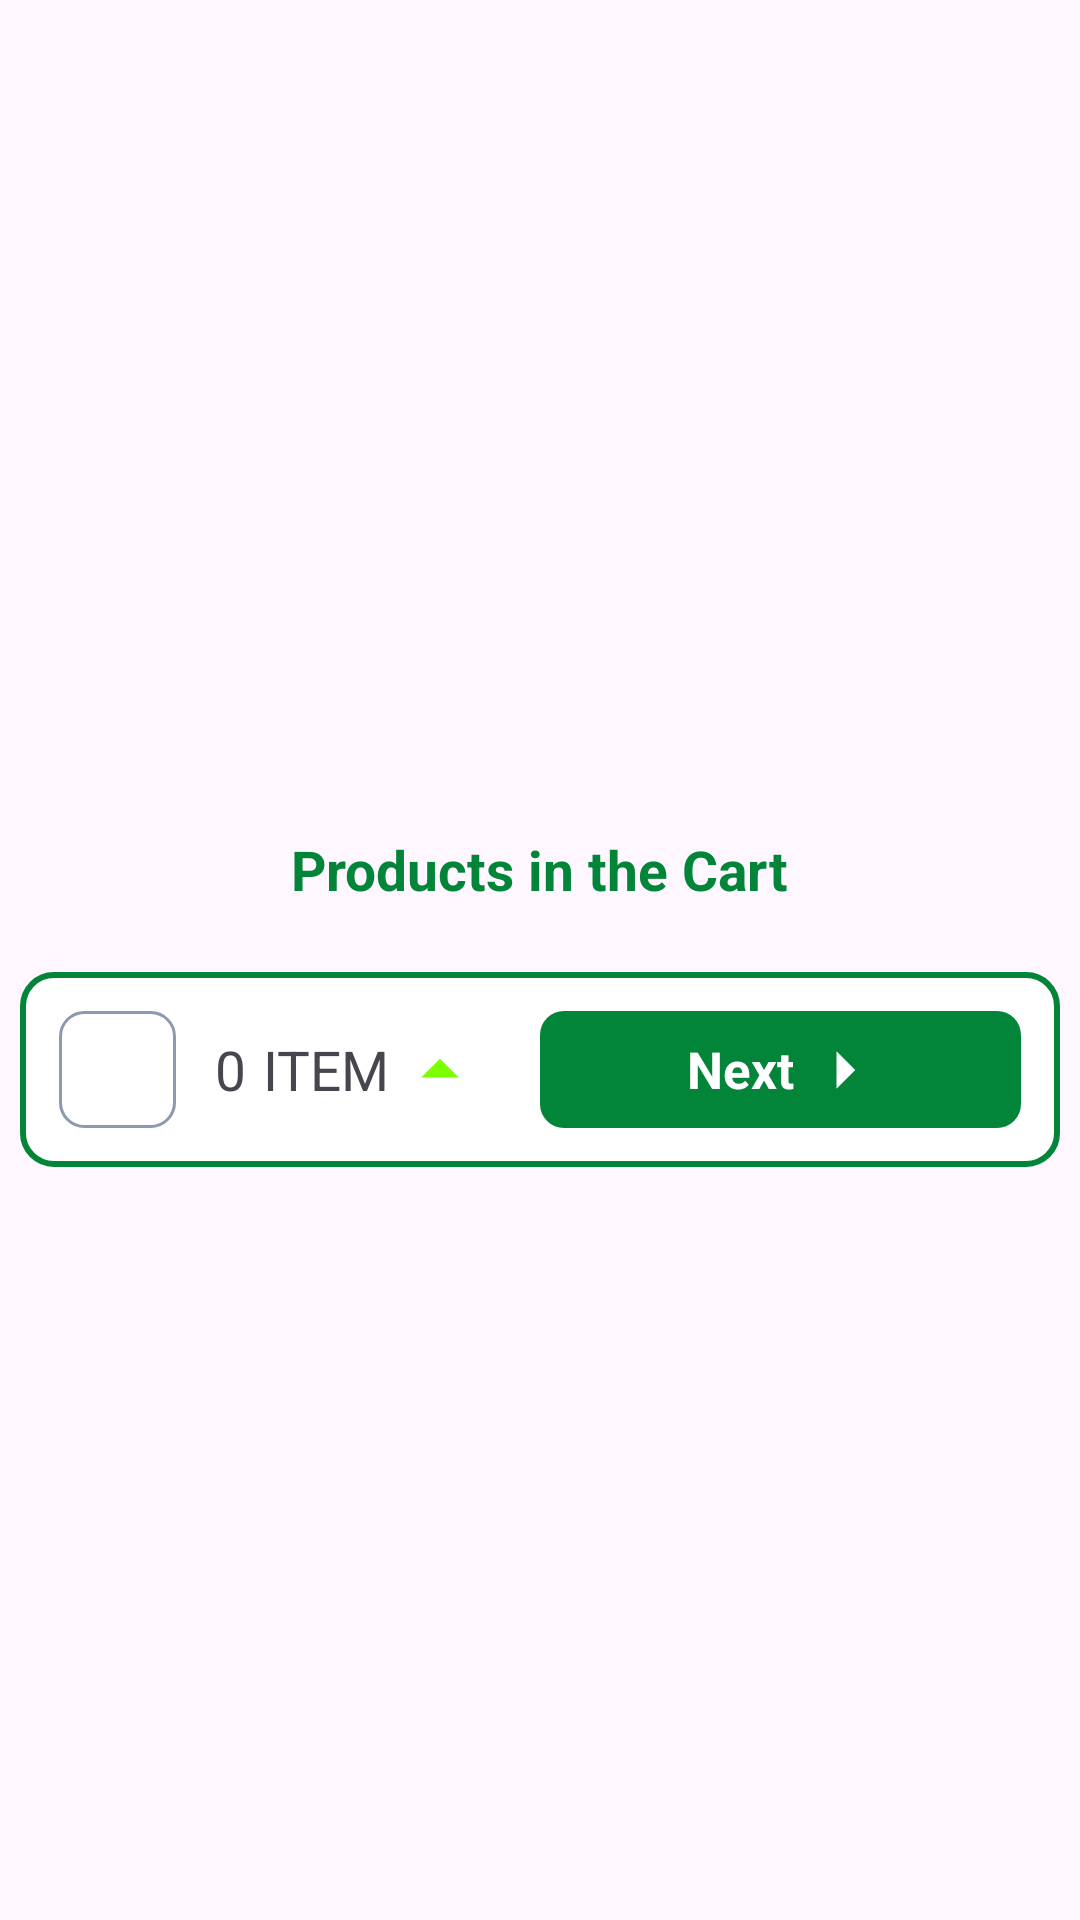

Icon bounding boxes for this 1080x1920 phone screenshot, format (x1,y1,x2,y2):
arrow drop up: (421,1059,459,1078)
arrow right: (836,1051,855,1089)
